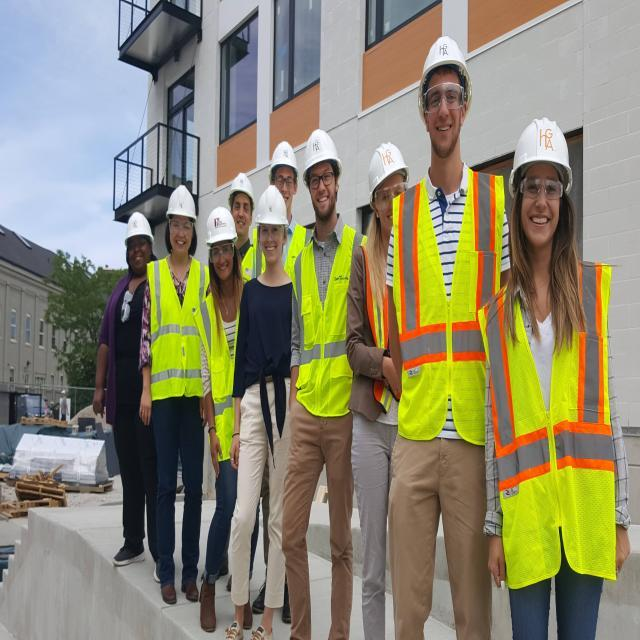reflective_jacket: (480, 265, 621, 588), (390, 170, 509, 448), (293, 225, 359, 415), (145, 255, 209, 401), (199, 280, 241, 461)
safety_helmet: (508, 109, 574, 183), (415, 30, 472, 93), (364, 136, 407, 195), (301, 124, 343, 180), (204, 202, 239, 248), (254, 184, 288, 228), (164, 180, 198, 223), (266, 136, 300, 177), (121, 207, 156, 246), (226, 168, 256, 204)
